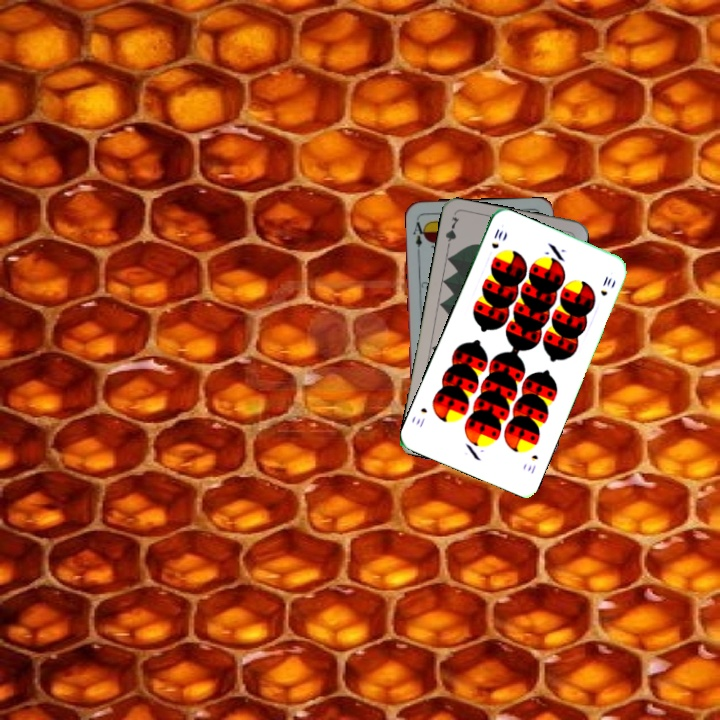EA: (409, 215, 429, 255)
G7: (441, 213, 462, 253)
S10: (487, 225, 506, 251), (523, 451, 541, 476)
